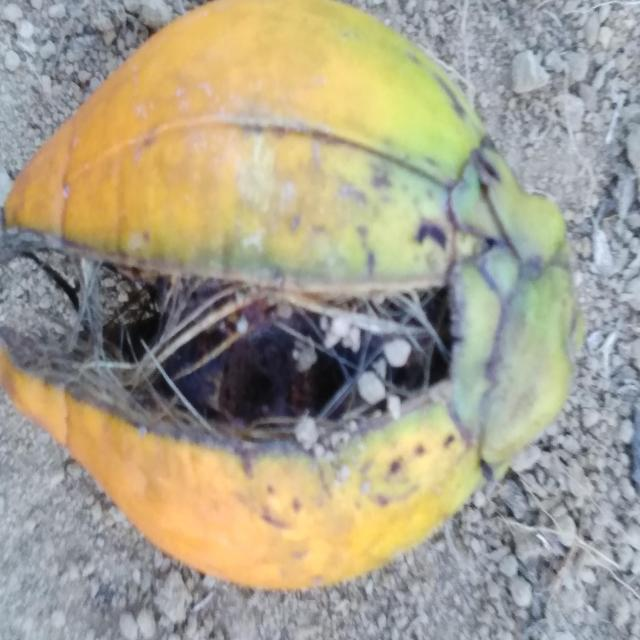damaged: (0, 0, 587, 595)
